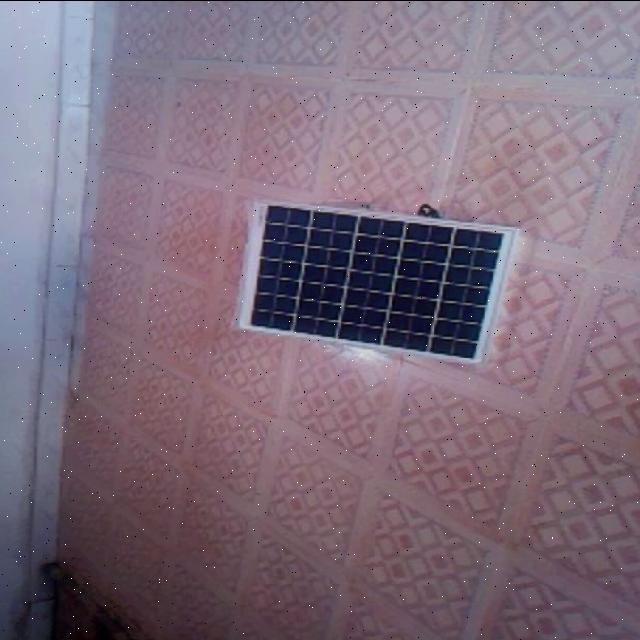Normal Solar Panel: (243, 205, 510, 357)
